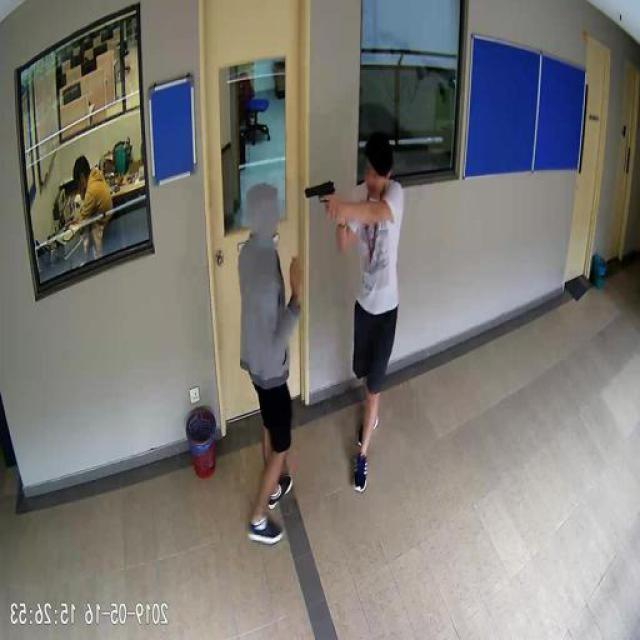weapon: (304, 180, 342, 220)
